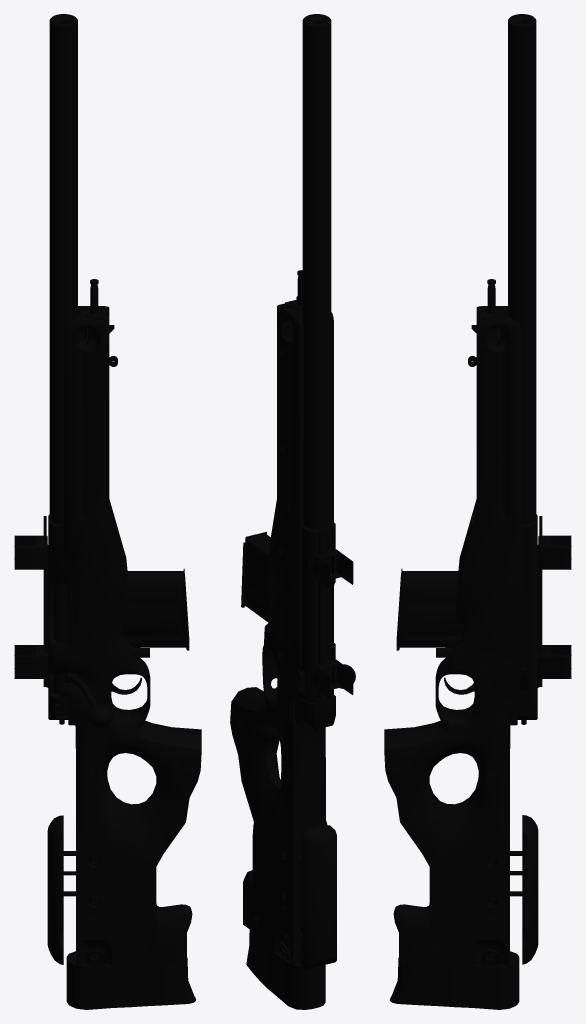
The model's file is AI_AWM.fbx.
The picture shows the model from 3 angles, left to right: view 1: azimuth 90°, elevation 25°; view 2: azimuth 210°, elevation 25°; view 3: azimuth 270°, elevation 25°; orthographic projection.
Parts seen in each view (by area): view 1: asset_AI_AWM.001; view 2: asset_AI_AWM.001; view 3: asset_AI_AWM.001.
Boxes of the visible parts, x1,y1,x2,y2 form: asset_AI_AWM.001: (14,14,201,1009); asset_AI_AWM.001: (230,14,355,1009); asset_AI_AWM.001: (384,14,571,1009).
Size of the model in its own units: 0.0616 by 0.738 by 0.1277.
